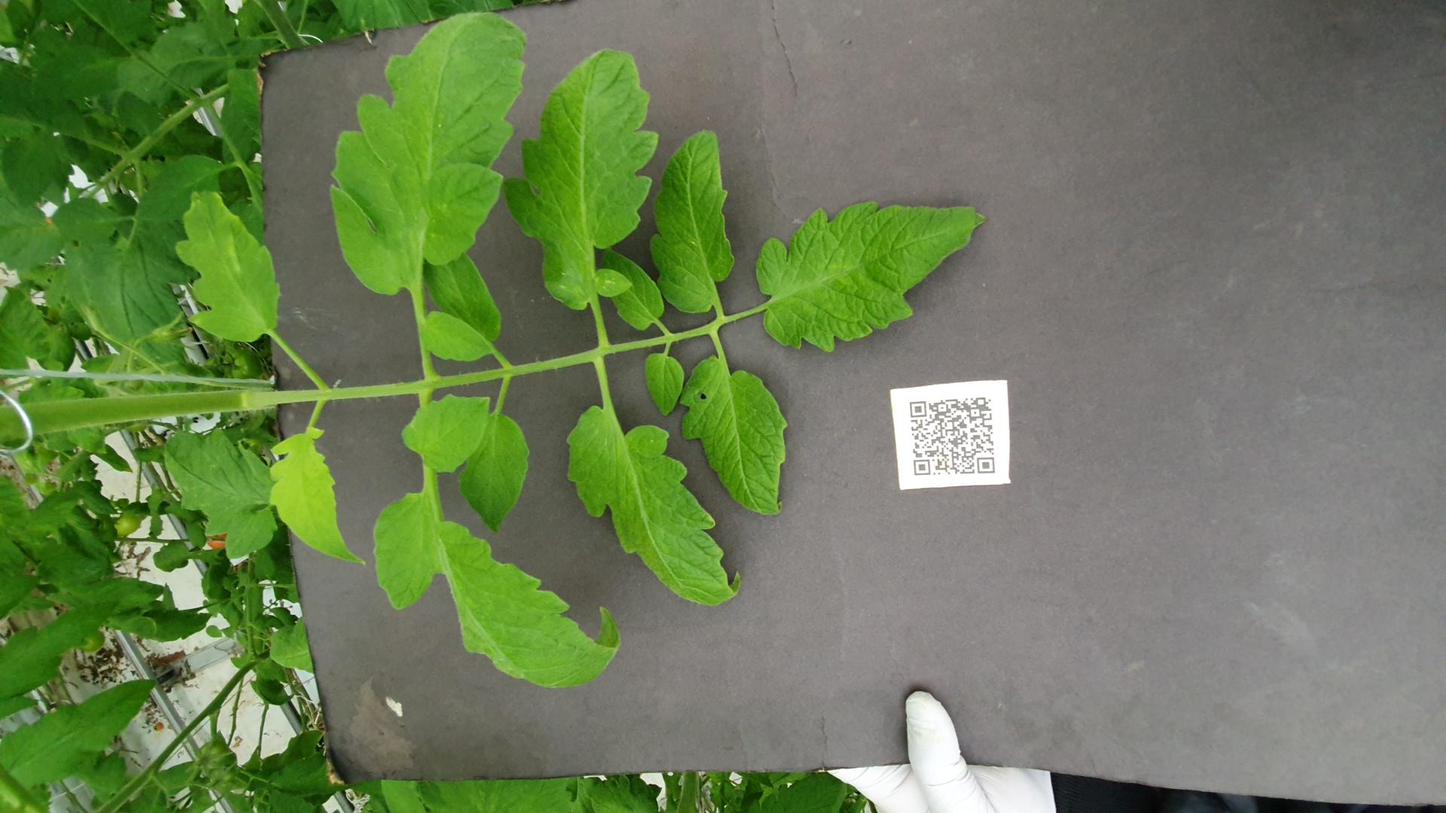Healthy: (916, 184, 1429, 297), (221, 208, 574, 350), (893, 282, 1365, 371), (814, 424, 1091, 557), (366, 317, 726, 417), (525, 381, 809, 445), (834, 96, 1113, 160), (44, 0, 241, 89), (886, 365, 1220, 415), (438, 151, 683, 206), (495, 257, 716, 299), (604, 226, 747, 278), (857, 337, 1005, 374), (797, 235, 893, 279), (1004, 27, 1095, 67), (702, 361, 818, 386)
